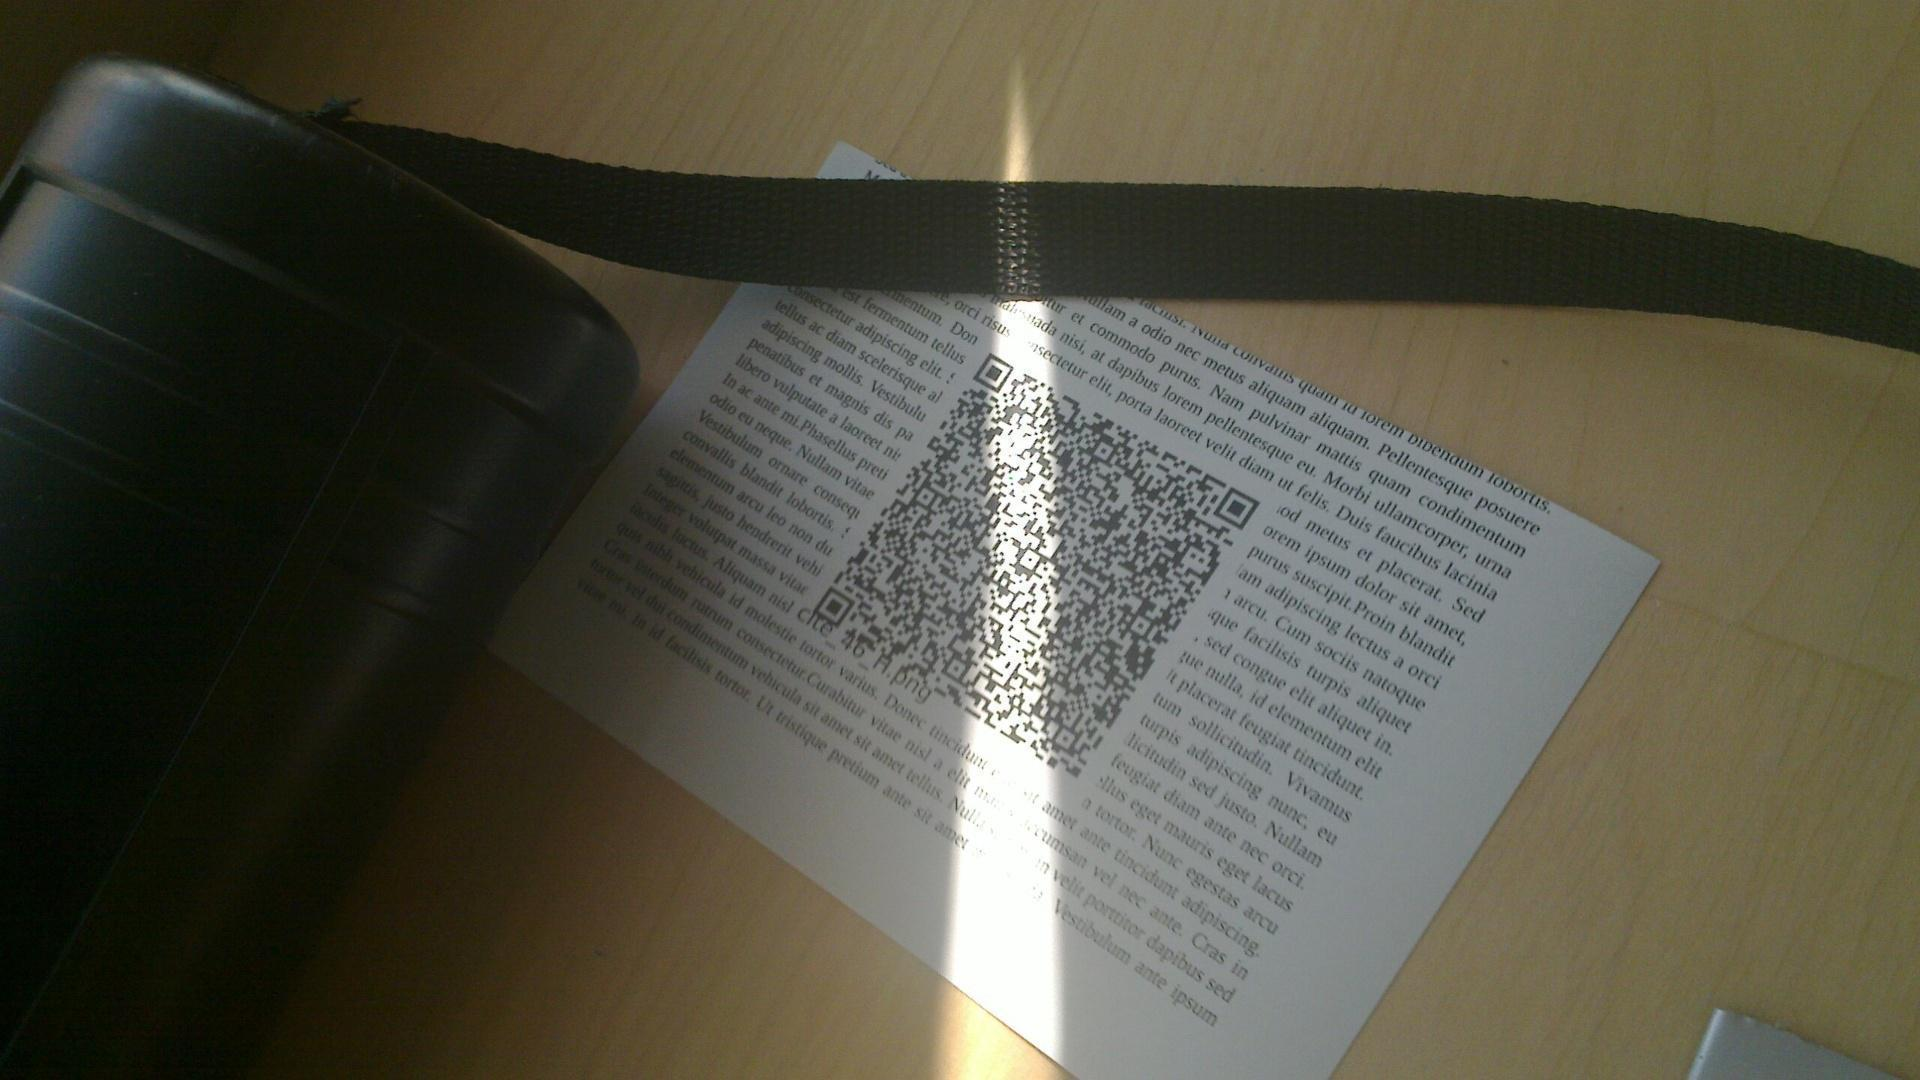qr_code: (814, 353, 1261, 781)
